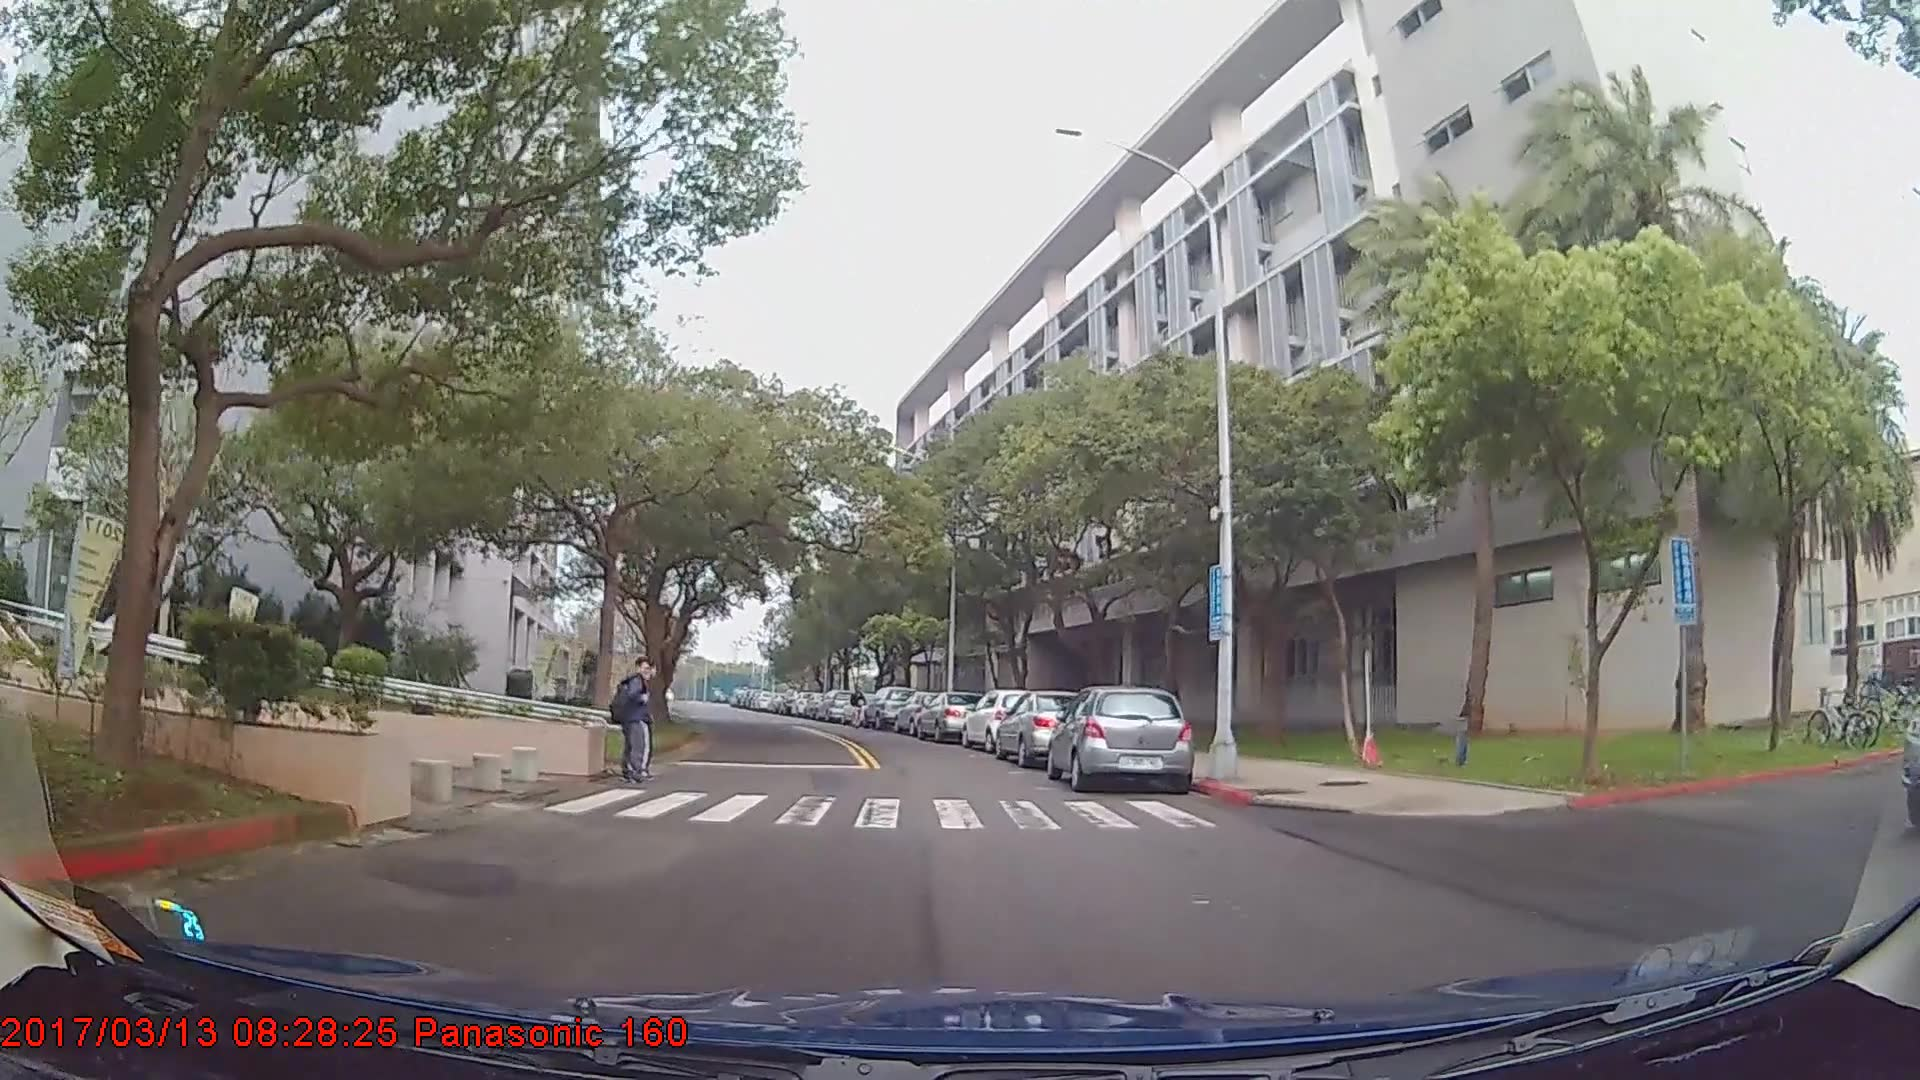pedestrian: (614, 656, 661, 787), (850, 686, 870, 731)
vehicle: (1047, 681, 1192, 791), (992, 689, 1093, 767), (960, 686, 1049, 753), (914, 688, 986, 742), (862, 682, 917, 728)
